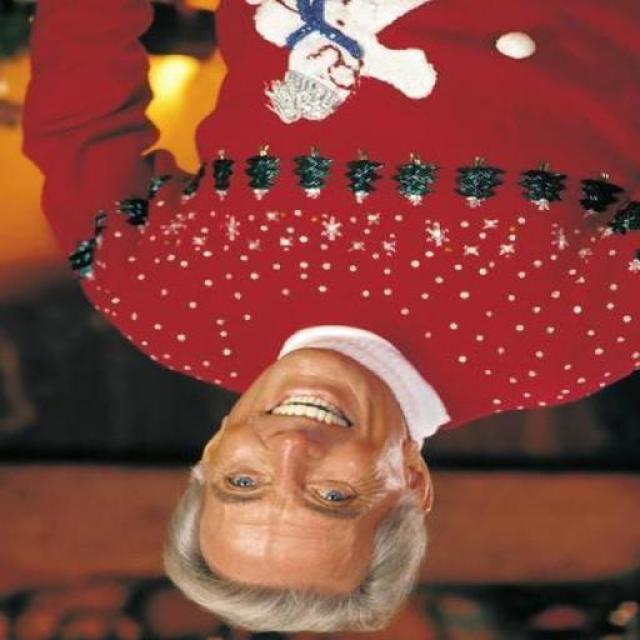bareface: (168, 348, 442, 640)
